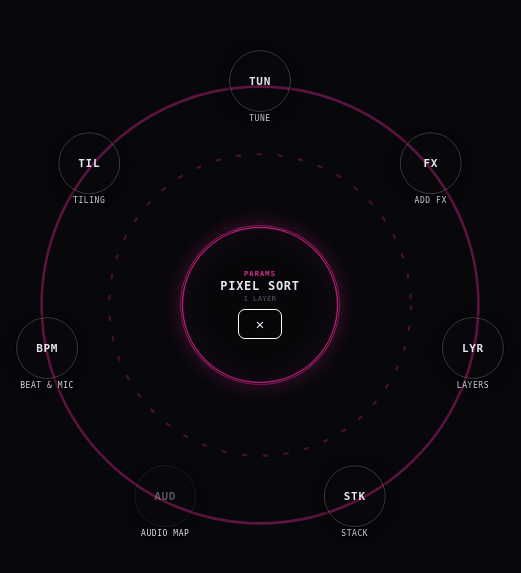
Scenario: ParamWheel — the amount dot › shows exactly one dot — on the slot under attention, never a ring of them
The image size is (521, 573).
Click the menu item "TUN". click: (260, 81)
box: [229,50,291,112]
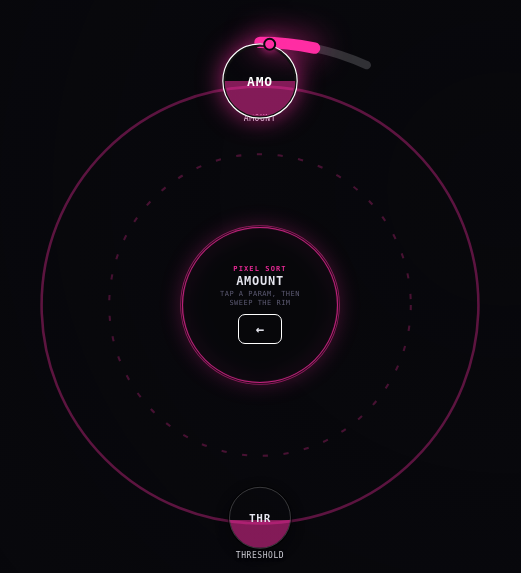
Now the number of sliders is 1, box [247,21,291,65]
